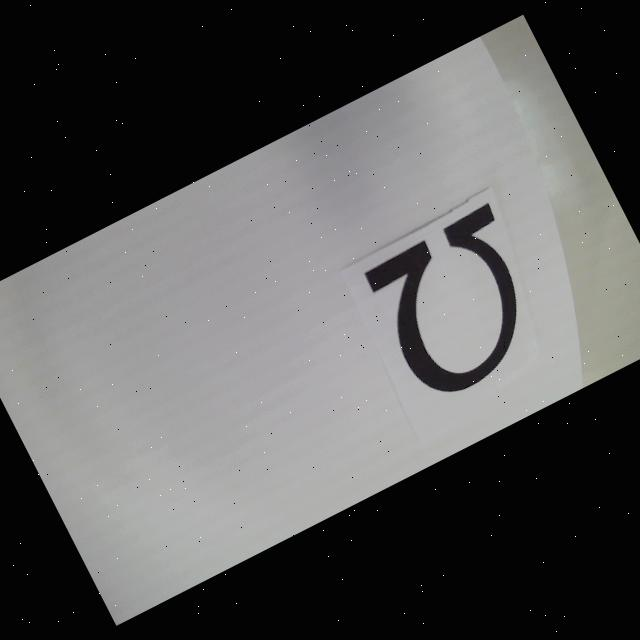OMEGA: (360, 202, 560, 408)
